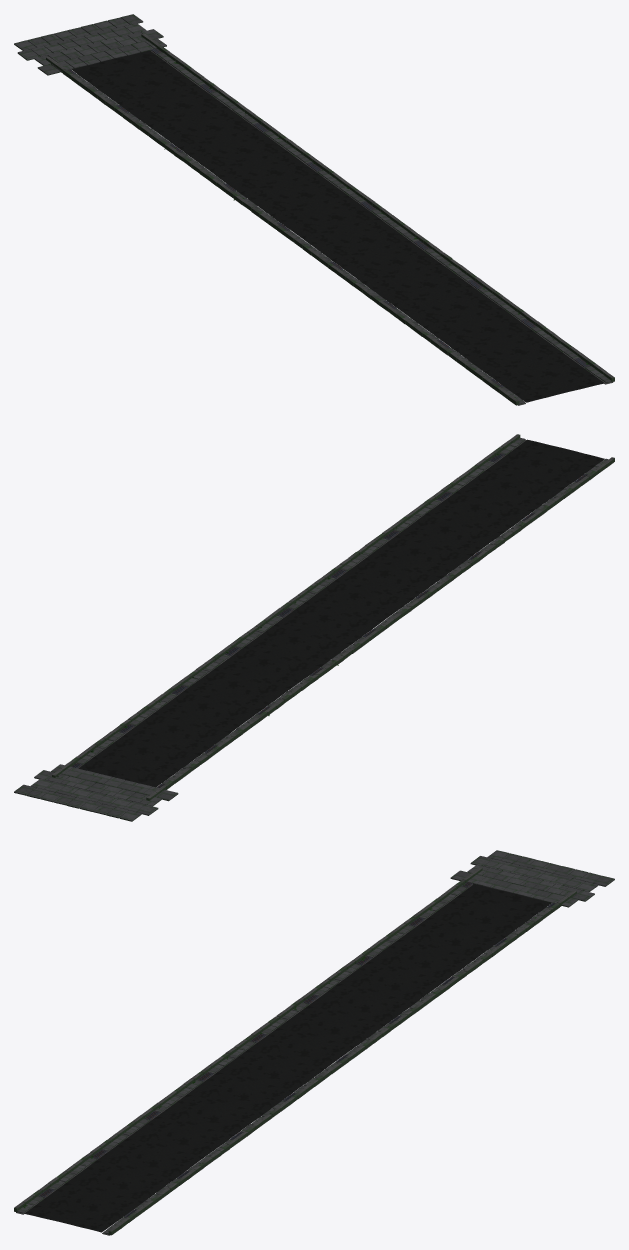
File: AlleyRoadAndGutters.fbx
3 views of the same model, one above another, from view 1: azimuth 30°, elevation 25°; view 2: azimuth 150°, elevation 25°; view 3: azimuth 330°, elevation 25° (orthographic).
Parts seen in each view (by area): view 1: AlleyRoadAndGutters; view 2: AlleyRoadAndGutters; view 3: AlleyRoadAndGutters.
Boxes of the visible parts, x1,y1,x2,y2 form: AlleyRoadAndGutters: (14, 14, 614, 405); AlleyRoadAndGutters: (14, 434, 614, 821); AlleyRoadAndGutters: (14, 850, 614, 1235).
Size of the model in its own units: 6.82 by 0.3359 by 46.31.
